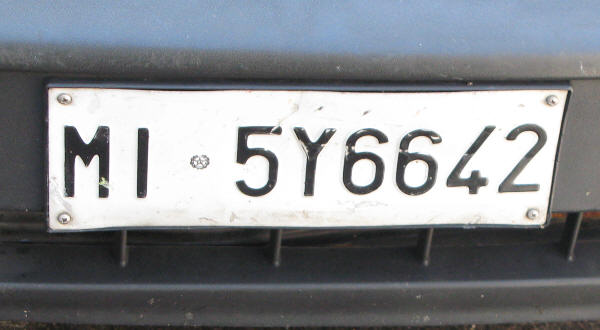license_plate: (45, 85, 569, 228)
